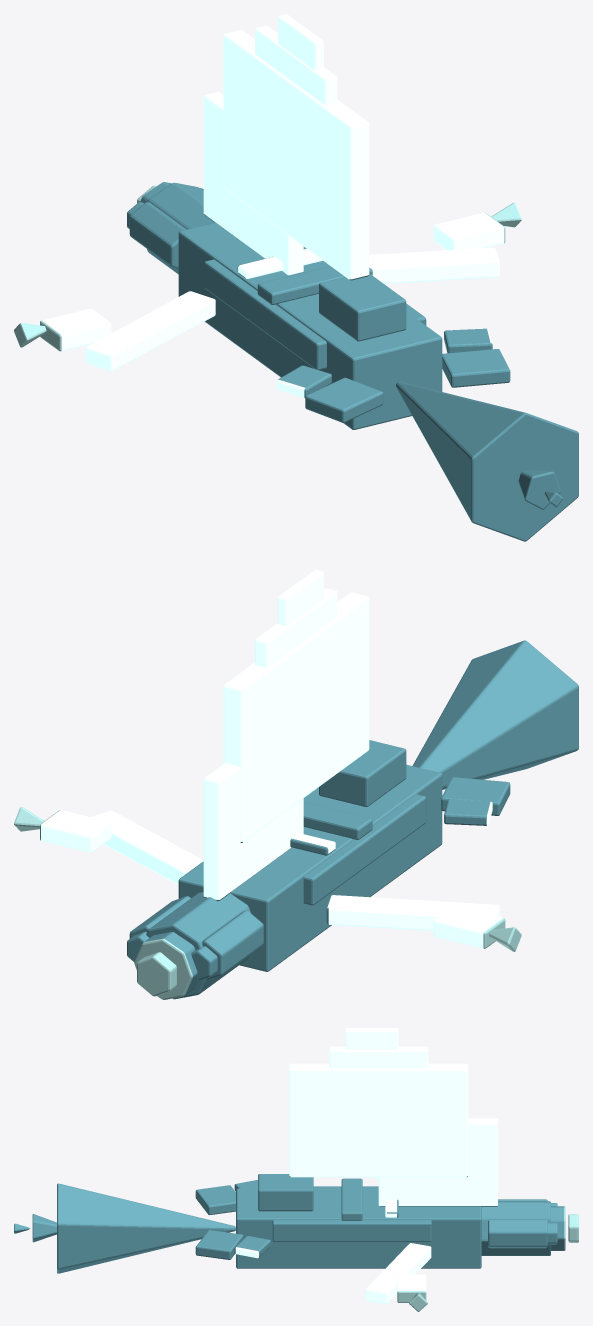
Rendered from Enemy_Scout.fbx.
3 views of the same model, one above another, from view 1: azimuth 30°, elevation 25°; view 2: azimuth 150°, elevation 25°; view 3: azimuth 270°, elevation 25° (orthographic). The views are drawn at different scales.
Parts seen in each view (by area): view 1: Enemy_Scout_Buffer_v5; view 2: Enemy_Scout_Buffer_v5; view 3: Enemy_Scout_Buffer_v5.
Part boxes in pixels (bbox=[...]): Enemy_Scout_Buffer_v5: bbox=[14, 14, 578, 541]; Enemy_Scout_Buffer_v5: bbox=[14, 570, 578, 999]; Enemy_Scout_Buffer_v5: bbox=[14, 1028, 578, 1311].
Bounding box in the file's own units: 3.02 × 2.03 × 4.26.
